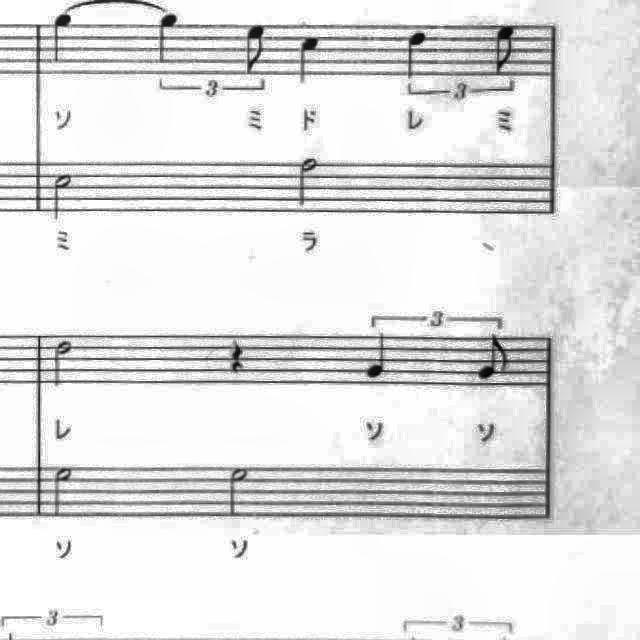Eighth-note: (472, 330, 516, 386), (236, 16, 274, 80), (486, 20, 524, 80)
Half-note: (46, 460, 82, 524), (292, 150, 326, 212), (222, 461, 256, 523), (48, 168, 80, 226), (48, 333, 80, 391)
Quarter-note: (44, 6, 84, 70), (291, 31, 329, 93), (152, 6, 188, 70), (398, 26, 436, 86), (360, 328, 398, 384)
Quarter-rest: (222, 332, 254, 378)
